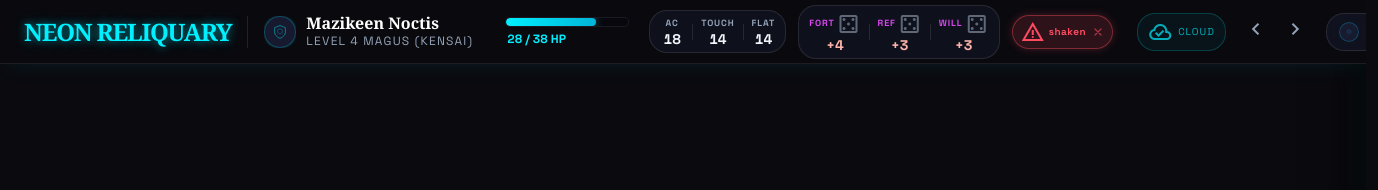
Test case: TacticalHUD Component › Suite 4: Persistent AC Badges & Stat Breakdown Tooltips › renders AC breakdown tooltip on hover/focus
Hover over the element showing "AC 18".
mouse_move(672, 33)  # box [664,17,681,48]
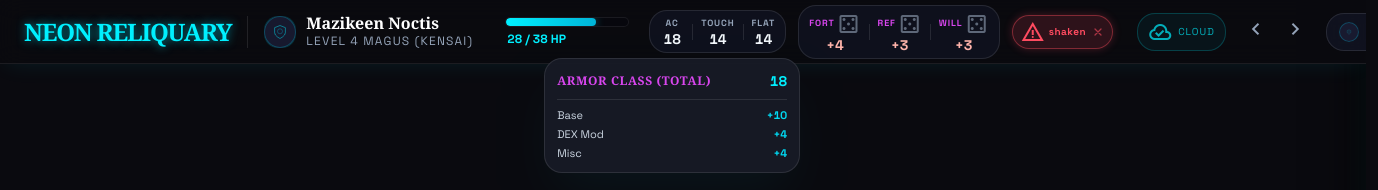
Result: the text "Armor Class (Total)" is shown at [557,73,711,89]
Result: the text "DEX Mod" is shown at [557,127,604,142]
